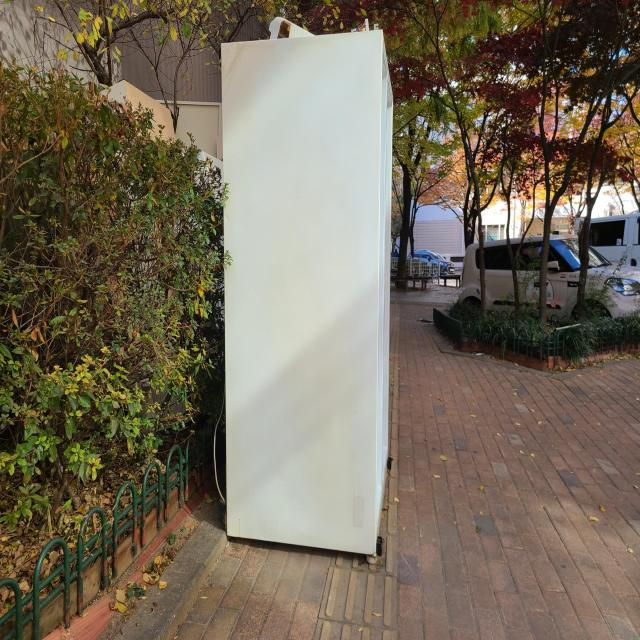refrigerator: (219, 27, 395, 572)
